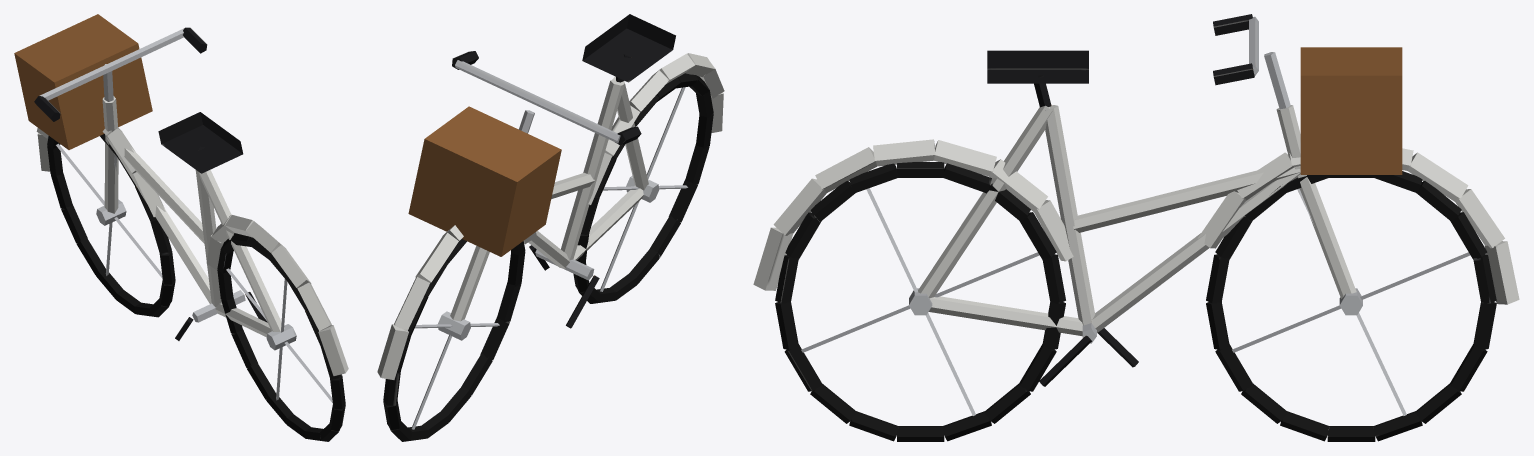
The model's file is kolo_3a822c38.glb.
3 views of the same model, side by side, from view 1: azimuth 30°, elevation 25°; view 2: azimuth 150°, elevation 25°; view 3: azimuth 270°, elevation 25° (orthographic). The views are drawn at different scales.
Visible parts, largest first — view 1: dum; view 2: dum; view 3: dum.
Part boxes in pixels (x1=…): dum: x1=14, y1=14, x2=348, y2=441; dum: x1=377, y1=14, x2=724, y2=441; dum: x1=753, y1=14, x2=1519, y2=441.
Bounding box in the file's own units: 0.5906 × 1.09 × 1.95.
Materials: 1 (1 with a texture image).
